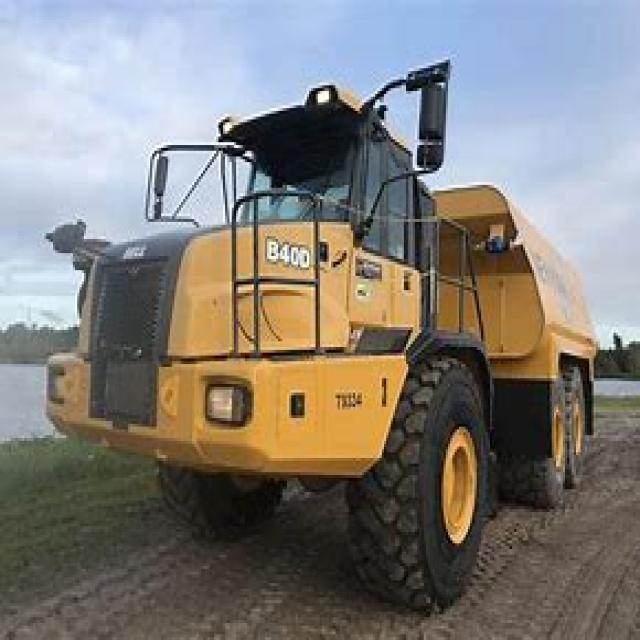dump_truck: (33, 80, 609, 603)
